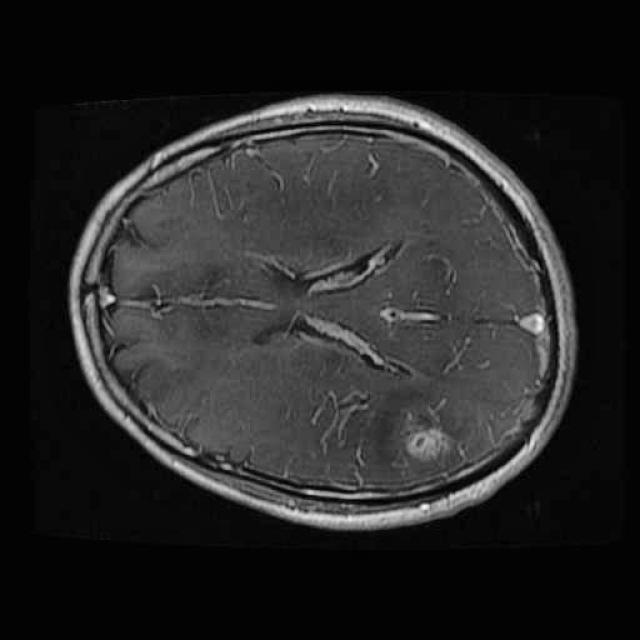Non-Tumor: (385, 408, 479, 476)
